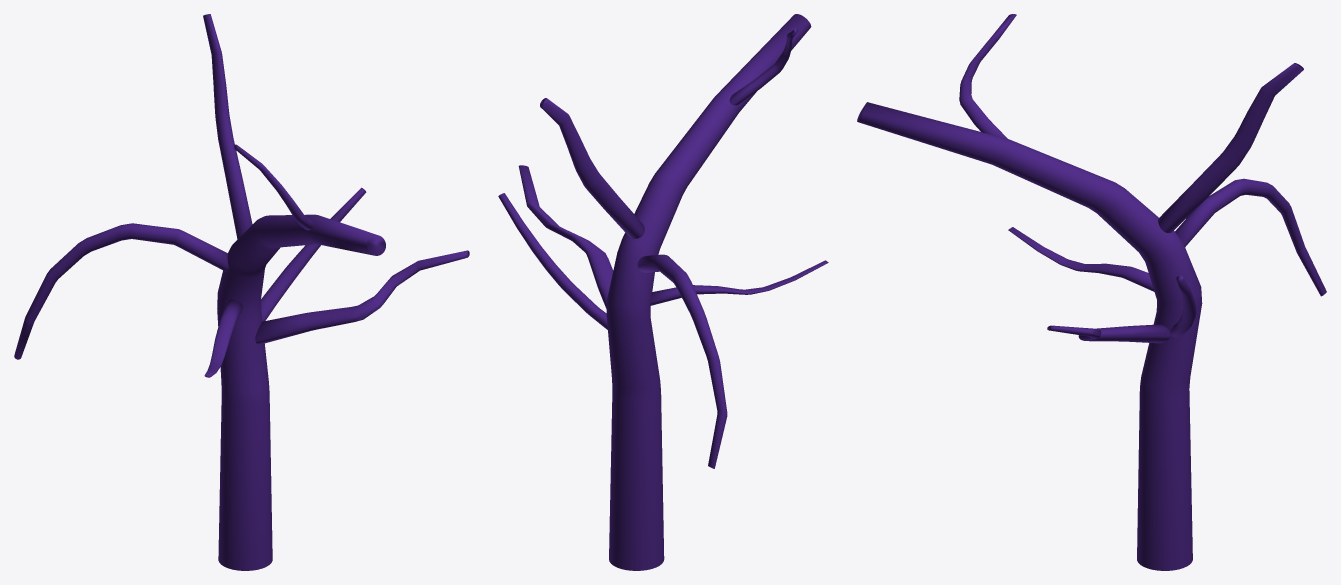
File: Arbol_dead5.fbx
The picture shows the model from 3 angles, left to right: view 1: azimuth 30°, elevation 25°; view 2: azimuth 150°, elevation 25°; view 3: azimuth 270°, elevation 25°; orthographic projection. The views are drawn at different scales.
Parts seen in each view (by area): view 1: Arbol_dead.004; view 2: Arbol_dead.004; view 3: Arbol_dead.004.
Boxes of the visible parts, bbox=[...] form: Arbol_dead.004: bbox=[14, 14, 469, 570]; Arbol_dead.004: bbox=[498, 14, 828, 570]; Arbol_dead.004: bbox=[857, 14, 1326, 570].
Size of the model in its own units: 198 by 288 by 241.
